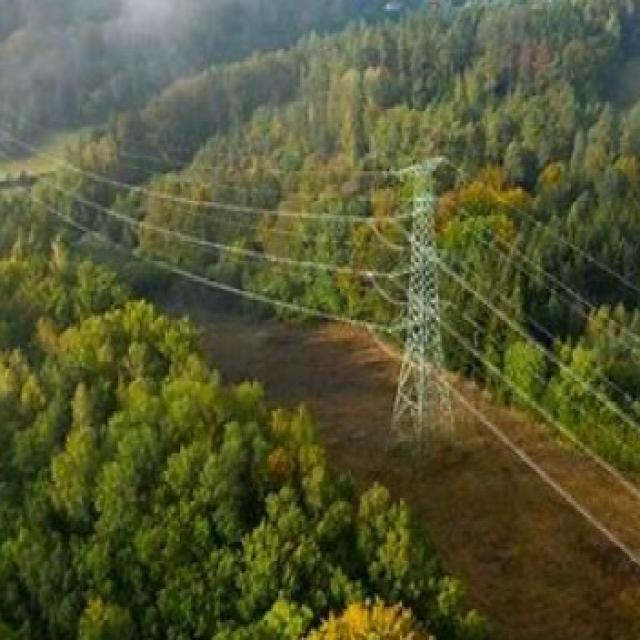utility poles: (390, 144, 470, 464)
